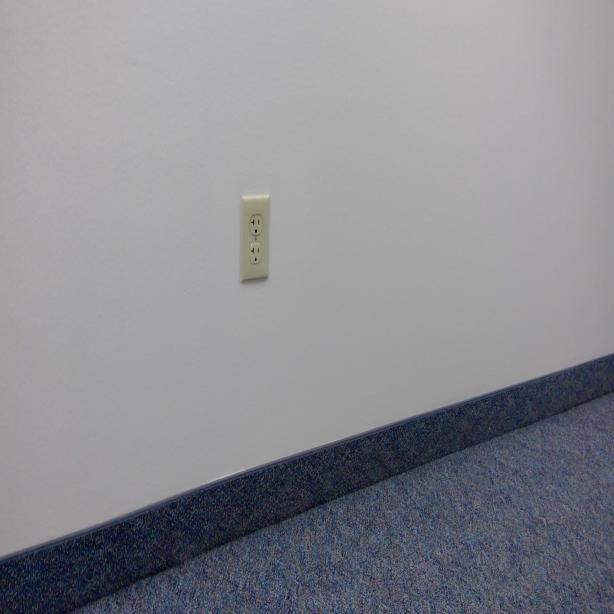typeb: (249, 242, 263, 266), (249, 215, 262, 233)
